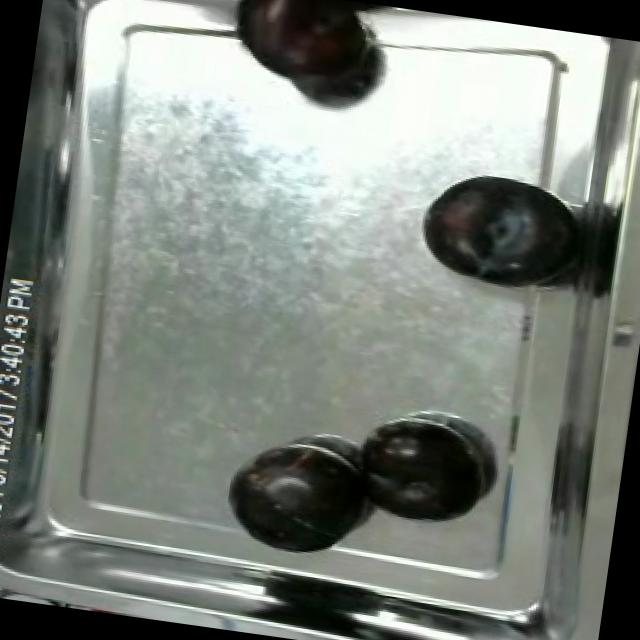Fruit: (406, 158, 584, 302), (218, 431, 376, 564), (219, 0, 391, 114), (343, 412, 488, 530)
